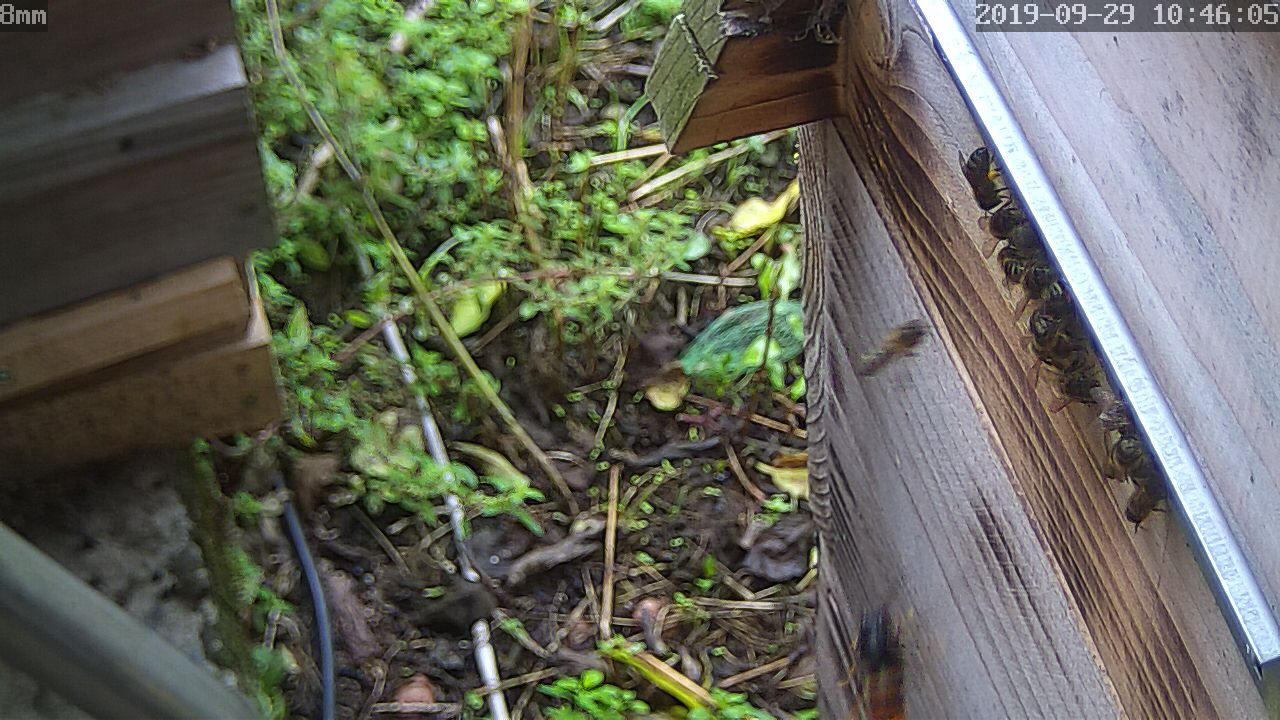bee: (1024, 313, 1103, 414), (994, 246, 1081, 327), (950, 134, 1011, 233), (1084, 397, 1152, 480), (1111, 470, 1167, 527)
hornet: (833, 601, 933, 720)
